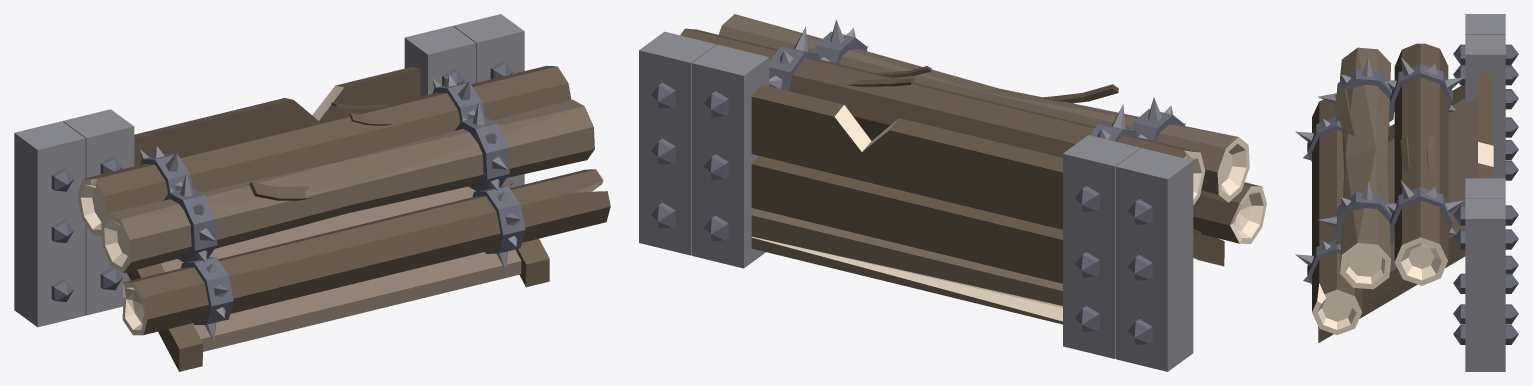
The model's file is _FIREWOODS.fbx.
3 renders of one model, left to right at view 1: azimuth 30°, elevation 25°; view 2: azimuth 150°, elevation 25°; view 3: azimuth 270°, elevation 25°, orthographic. The views are drawn at different scales.
Visible parts, largest first — view 1: FIREWOODS; view 2: FIREWOODS; view 3: FIREWOODS.
Part boxes in pixels (bbox=[...]): FIREWOODS: bbox=[14, 14, 610, 371]; FIREWOODS: bbox=[639, 14, 1266, 371]; FIREWOODS: bbox=[1295, 14, 1518, 371].
Bounding box in the file's own units: 601 × 206 × 273.
